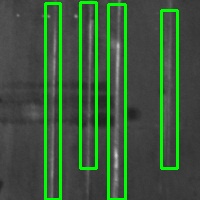inclusion: (1, 77, 118, 130)
scratches: (108, 4, 125, 199), (45, 3, 60, 199), (80, 2, 96, 168), (161, 10, 177, 168)
